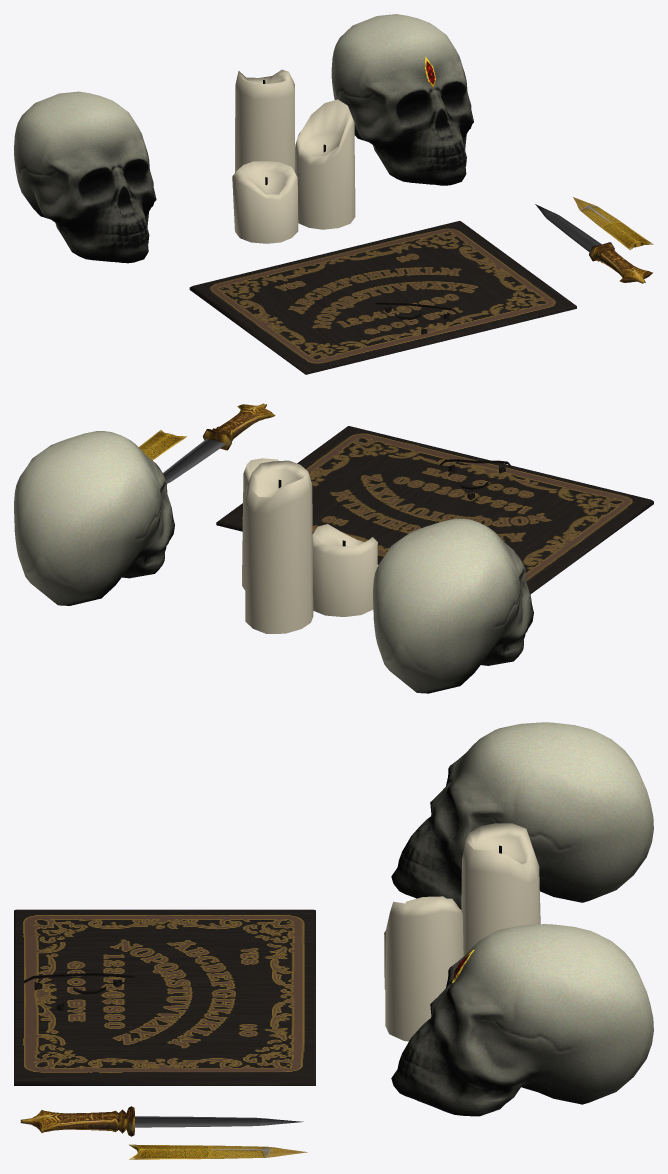
Rendered from lowpoly_ouija_board_with_props.glb.
The picture shows the model from 3 angles, top to bottom: view 1: azimuth 30°, elevation 25°; view 2: azimuth 150°, elevation 25°; view 3: azimuth 270°, elevation 25°; orthographic projection. The views are drawn at different scales.
Parts seen in each view (by area): view 1: ouija board, skull, skull with diamond, candle.002, candle, candle.001, dagger_and_part.001_Cylinder.008; view 2: ouija board, skull, skull with diamond, candle, candle.001, dagger_and_part.001_Cylinder.008, candle.002, ouija board part; view 3: ouija board, skull with diamond, skull, candle.002, candle, dagger_and_part.001_Cylinder.008, ouija board part.
Part boxes in pixels (box(x1,y1,x2,y2)): ouija board: box(189, 221, 576, 374); skull: box(14, 91, 156, 263); skull with diamond: box(331, 14, 473, 185); candle.002: box(295, 99, 355, 229); candle: box(235, 69, 295, 172); candle.001: box(232, 161, 298, 243); dagger_and_part.001_Cylinder.008: box(535, 197, 653, 283); ouija board: box(216, 426, 653, 594); skull: box(373, 518, 533, 693); skull with diamond: box(14, 431, 174, 605); candle: box(245, 460, 313, 633); candle.001: box(312, 524, 377, 616); dagger_and_part.001_Cylinder.008: box(138, 403, 275, 483); candle.002: box(242, 458, 278, 590); ouija board part: box(439, 459, 511, 500); ouija board: box(14, 909, 315, 1085); skull with diamond: box(391, 924, 653, 1116); skull: box(391, 722, 653, 909); candle.002: box(385, 898, 463, 1041); candle: box(461, 823, 540, 955); dagger_and_part.001_Cylinder.008: box(20, 1106, 307, 1159); ouija board part: box(24, 973, 134, 1011).
Size of the model in its own units: 0.8355 by 0.2256 by 0.7553.
Materials: 2 (2 with a texture image).
